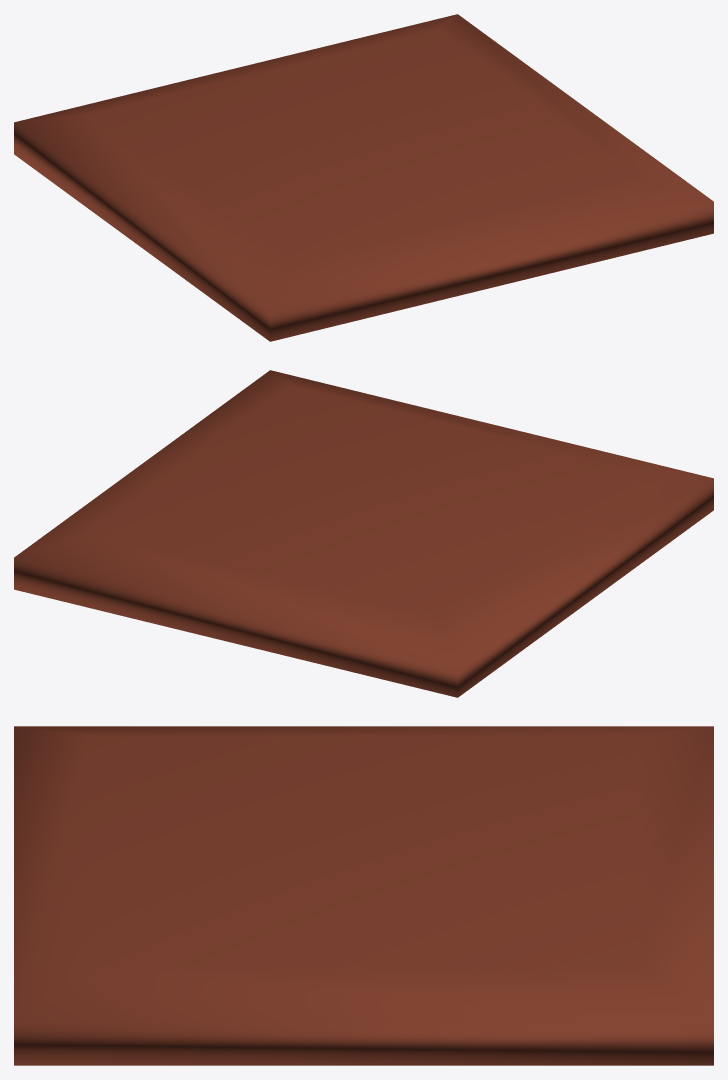
File: carne.glb
3 views of the same model, one above another, from view 1: azimuth 30°, elevation 25°; view 2: azimuth 150°, elevation 25°; view 3: azimuth 270°, elevation 25° (orthographic). The views are drawn at different scales.
Parts seen in each view (by area): view 1: carne.002; view 2: carne.002; view 3: carne.002.
Part boxes in pixels (x1,y1,x2,y2): carne.002: (14,14,713,341); carne.002: (14,370,713,697); carne.002: (14,726,713,1065).
Bounding box in the file's own units: 2.18 × 0.3013 × 2.18.
